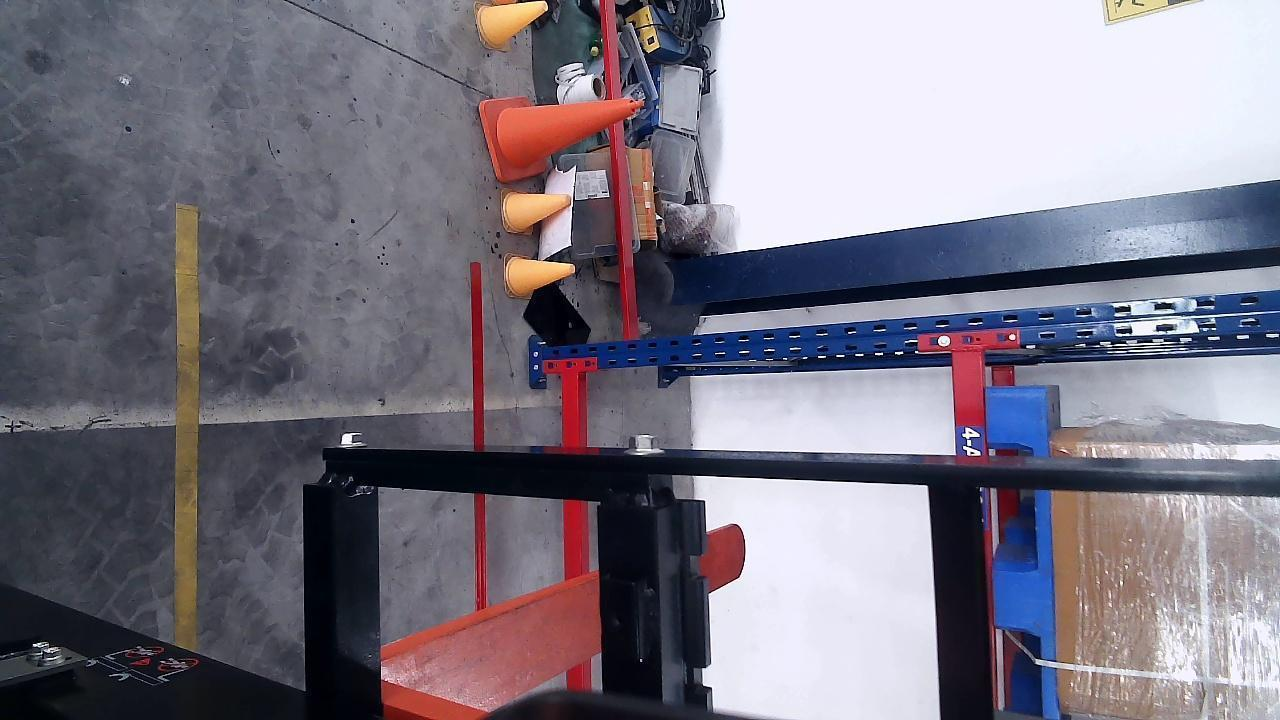red_line: (468, 260, 487, 607)
yellow_line: (174, 205, 202, 654)
